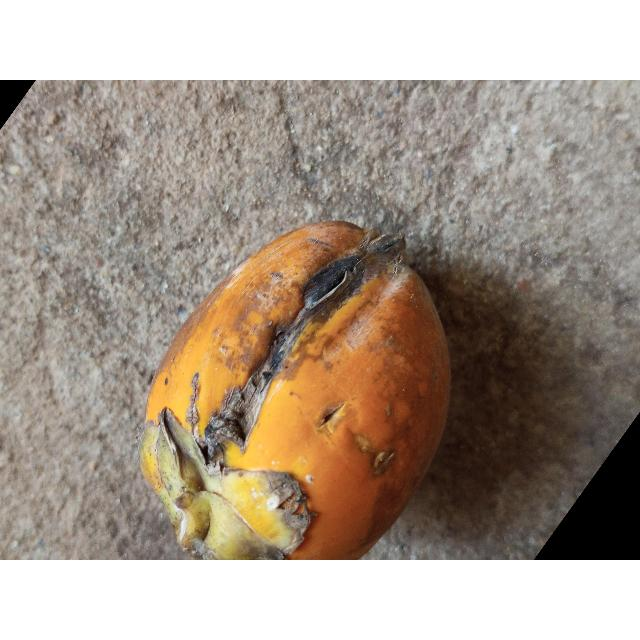damaged: (140, 221, 450, 560)
